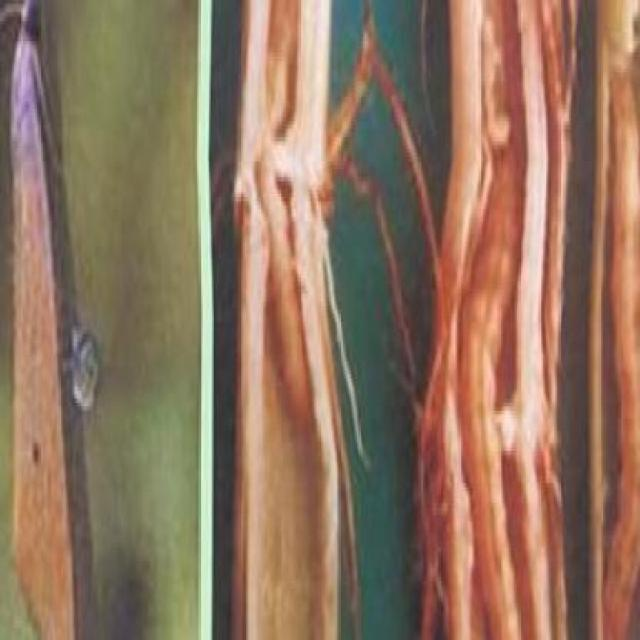stem-borer: (0, 0, 74, 640)
